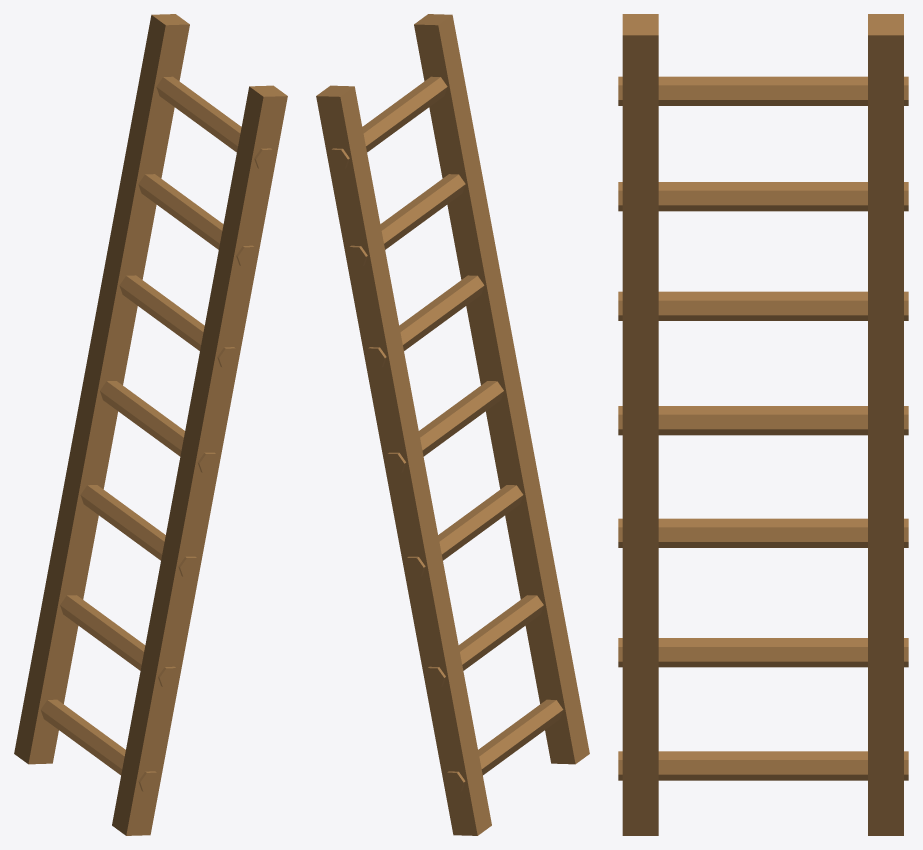
The model's file is Ladder.fbx.
The picture shows the model from 3 angles, left to right: view 1: azimuth 30°, elevation 25°; view 2: azimuth 150°, elevation 25°; view 3: azimuth 270°, elevation 25°; orthographic projection. The views are drawn at different scales.
Parts seen in each view (by area): view 1: Ladder; view 2: Ladder; view 3: Ladder.
Part boxes in pixels (x1,y1,x2,y2): Ladder: (14,14,287,835); Ladder: (316,14,589,835); Ladder: (618,14,908,835).
Size of the model in its own units: 239 by 1005 by 297.
